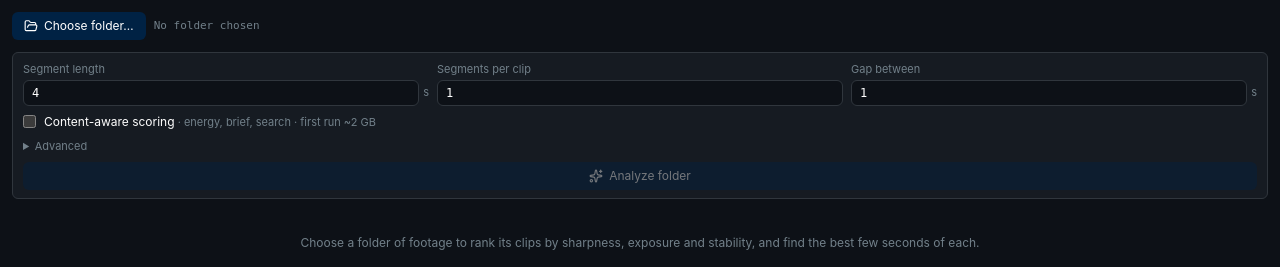
Test: FolderAnalyzer › picks a folder
Click the button "Choose folder…" at [79, 26], box [12, 12, 146, 40]
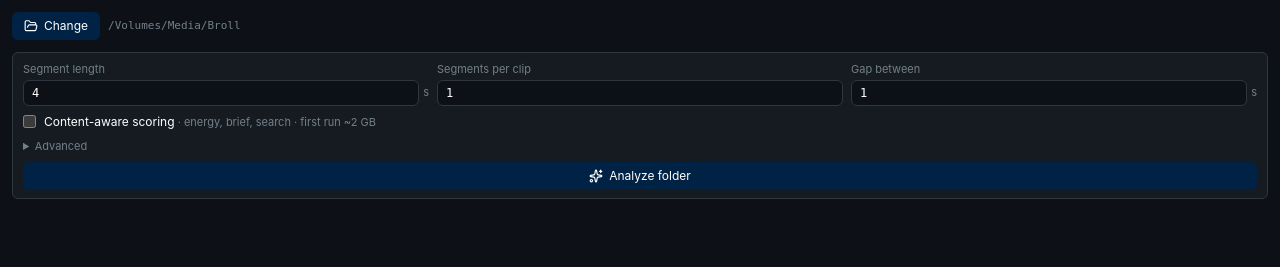
Check: the text "/Volumes/Media/Broll" is shown, box [108, 18, 240, 34]
